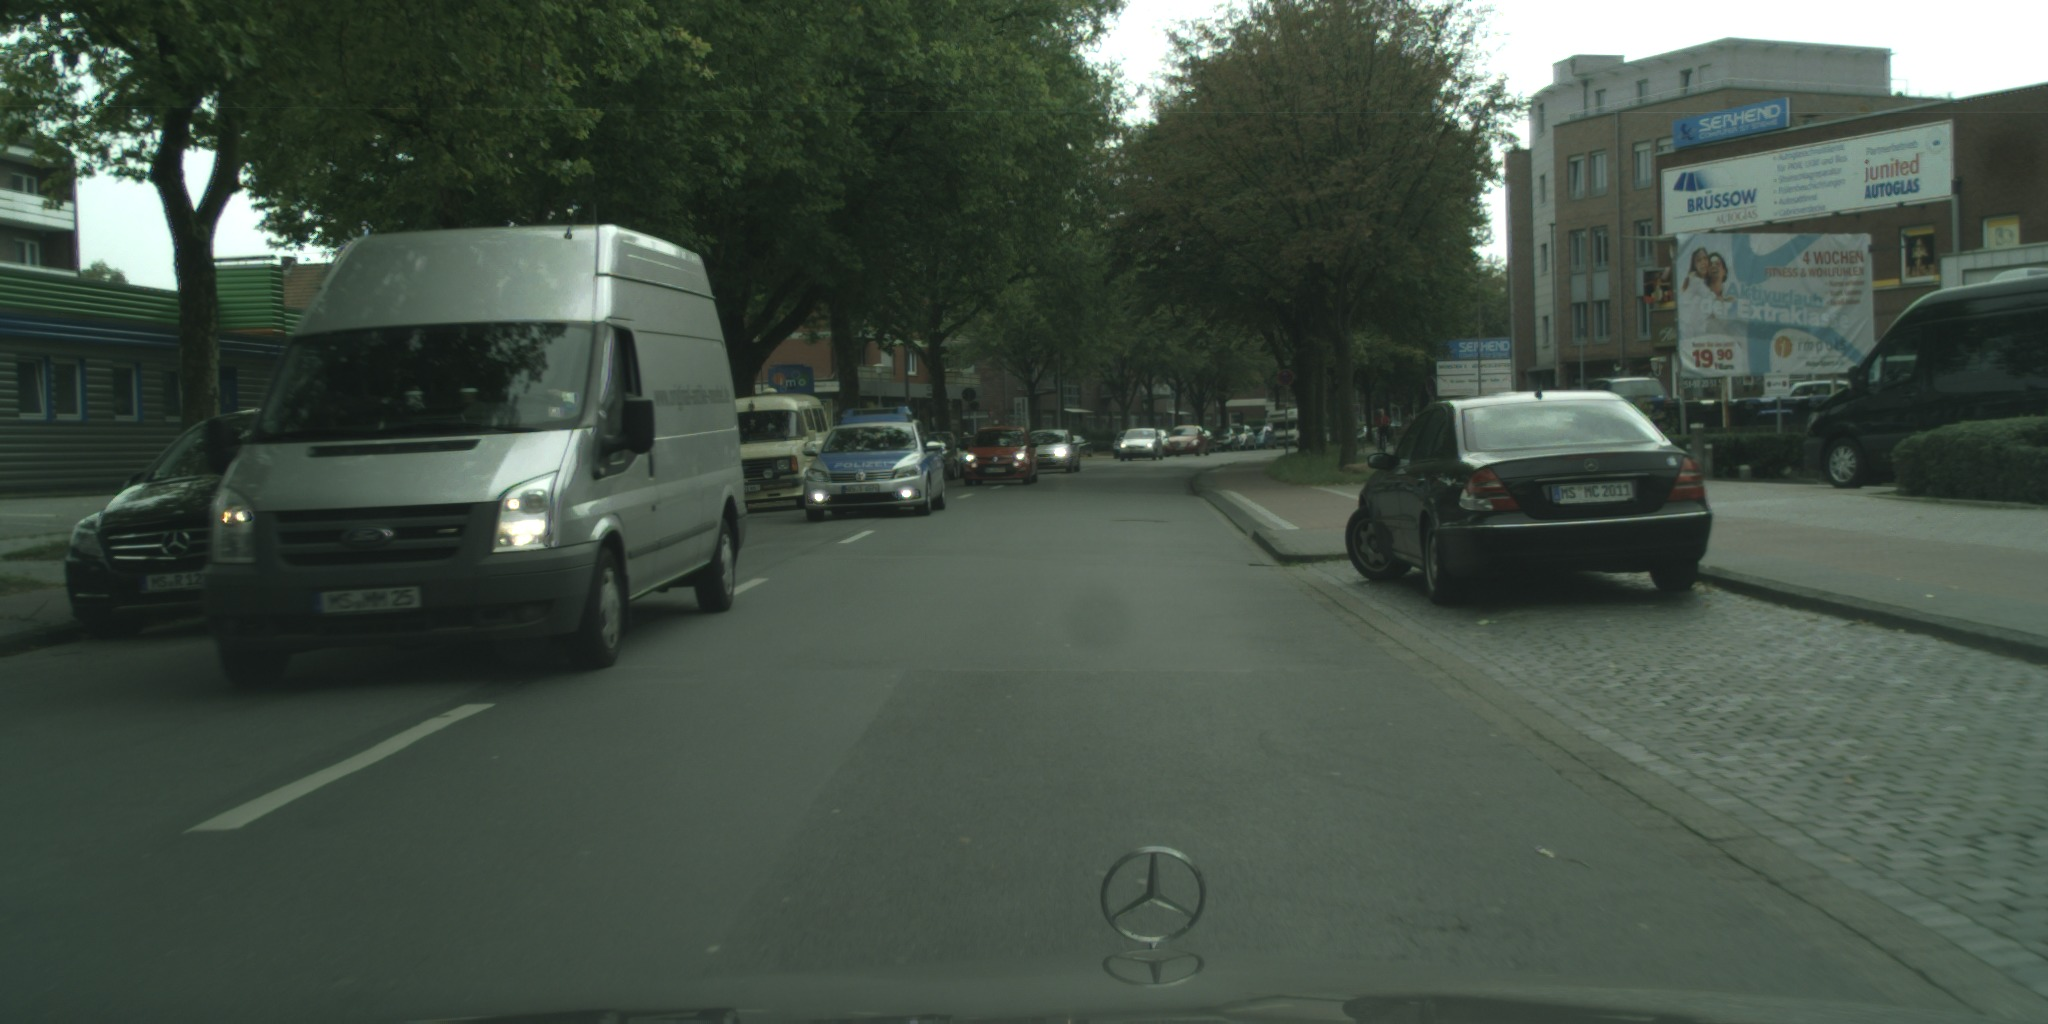bicycle: (1382, 429, 1386, 459)
car: (203, 223, 748, 690), (1344, 390, 1713, 608), (1805, 267, 2048, 488), (64, 408, 277, 642), (802, 406, 945, 522), (727, 394, 832, 515), (1584, 375, 1680, 433), (958, 426, 1039, 485), (1018, 429, 1083, 472), (917, 431, 968, 483), (1782, 380, 1854, 405), (1159, 425, 1208, 457), (1119, 429, 1163, 461), (1226, 425, 1257, 451), (1209, 427, 1241, 452), (1245, 426, 1277, 449), (1113, 429, 1134, 459), (1199, 430, 1218, 453), (1150, 430, 1170, 448)
rider: (1374, 408, 1390, 448)
